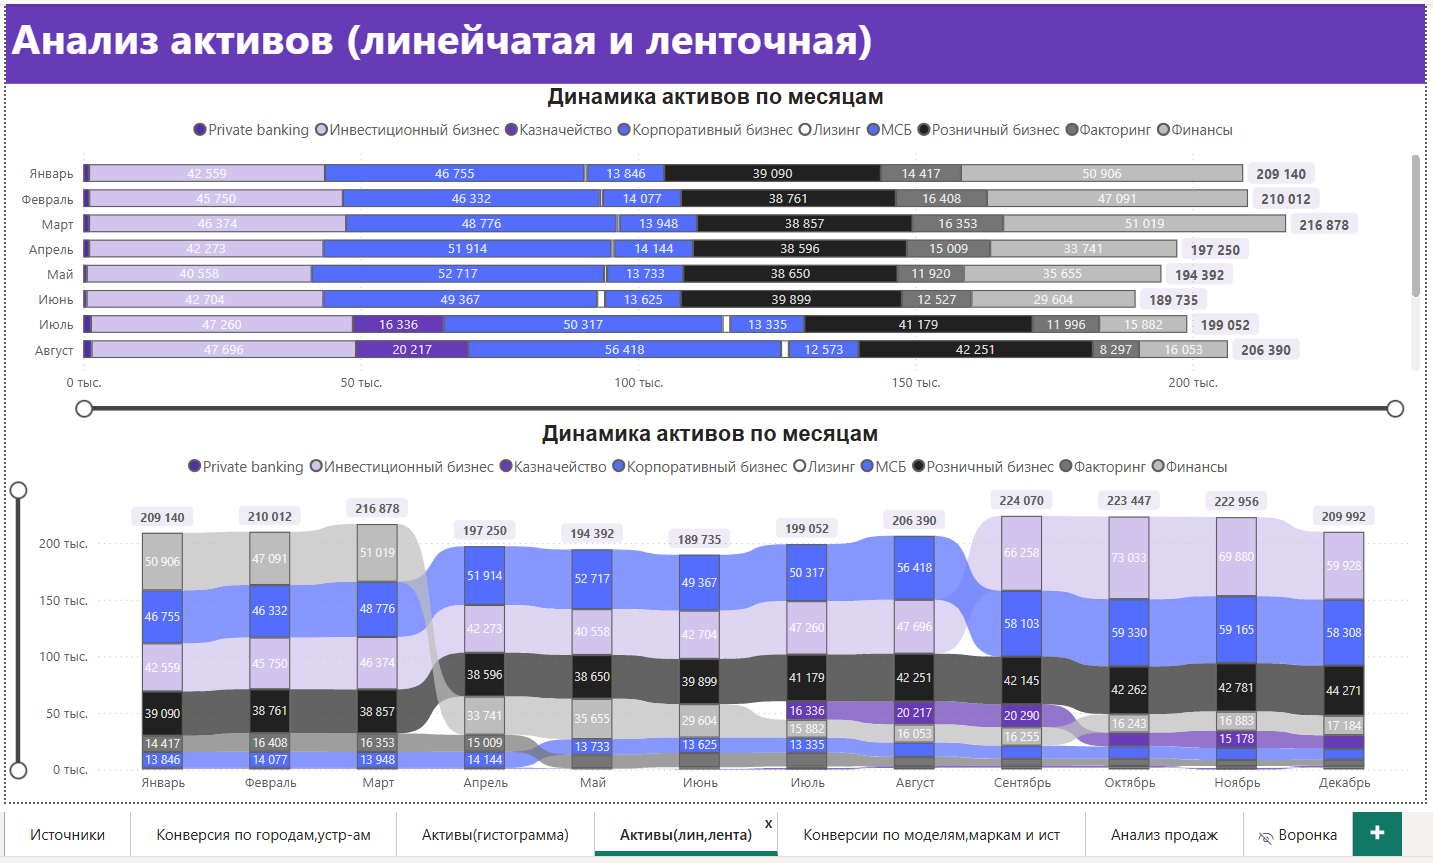

Layout of this report page (visuals, bound fields, positions):
{"tool":"powerbi","page":{"name":"Активы(лин,лента)","canvas":[1280,720],"ordinal":3},"visuals":[{"type":"textbox","box":[0,0,1280.3,72.1],"z":0},{"type":"barChart","title":"Динамика активов по месяцам","fields":{"Category":["Динамика Активов.Месяц Год.Изменение.Иерархия дат.Год","Динамика Активов.Месяц Год.Изменение.Иерархия дат.Квартал","Динамика Активов.Месяц Год.Изменение.Иерархия дат.Месяц","Динамика Активов.Месяц Год.Изменение.Иерархия дат.День"],"Y":["Sum(Динамика Активов.Активы)"],"Series":["Динамика Активов.Бизнес-сегмент"]},"box":[0,72.1,1280.3,303.3],"z":1000},{"type":"ribbonChart","title":"Динамика активов по месяцам","fields":{"Category":["Динамика Активов.Месяц Год.Изменение.Иерархия дат.Год","Динамика Активов.Месяц Год.Изменение.Иерархия дат.Квартал","Динамика Активов.Месяц Год.Изменение.Иерархия дат.Месяц","Динамика Активов.Месяц Год.Изменение.Иерархия дат.День"],"Y":["Sum(Динамика Активов.Активы)"],"Series":["Динамика Активов.Бизнес-сегмент"]},"box":[0,375.4,1270.5,344.8],"z":2000}]}

Visuals, with their boxes on the page's 1280x720 design canvas (x1, y1, x2, y2). These are canvas units, not pixel positions in the 1433x863 screenshot, which may show the page scaled, cropped or inside an application window:
textbox: box=[0, 0, 1280, 72]
"Динамика активов по месяцам" barChart: box=[0, 72, 1280, 375]
"Динамика активов по месяцам" ribbonChart: box=[0, 375, 1270, 720]
